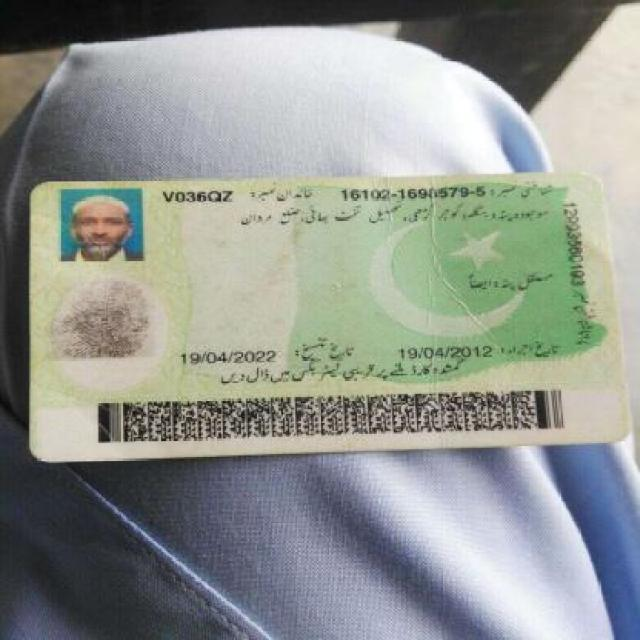Back: (6, 168, 639, 455)
